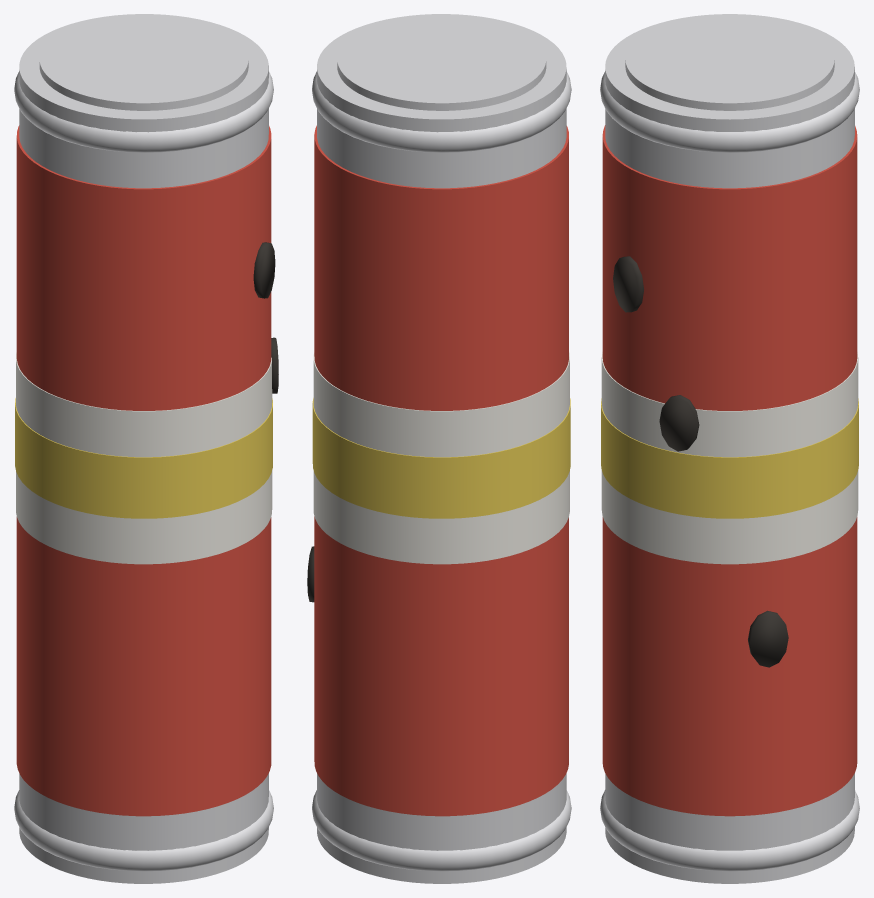
The model's file is soup_can_dmg.glb.
The picture shows the model from 3 angles, left to right: view 1: azimuth 30°, elevation 25°; view 2: azimuth 150°, elevation 25°; view 3: azimuth 270°, elevation 25°; orthographic projection.
Visible parts, largest first — view 1: Cylinder.014, Cylinder.013, Cylinder.015, Cylinder.017, Cylinder.016, Torus.003, Torus.002, Cylinder.020; view 2: Cylinder.014, Cylinder.013, Cylinder.015, Cylinder.017, Cylinder.016, Torus.003, Torus.002; view 3: Cylinder.014, Cylinder.013, Cylinder.015, Cylinder.017, Cylinder.016, Torus.002, Torus.003, Cylinder.019, Cylinder.018, Cylinder.020.
Part boxes in pixels (x1,y1,x2,y2): Cylinder.014: (16, 125, 271, 816); Cylinder.013: (19, 14, 268, 883); Cylinder.015: (16, 352, 272, 564); Cylinder.017: (39, 15, 248, 110); Cylinder.016: (15, 398, 272, 518); Torus.003: (14, 71, 273, 152); Torus.002: (14, 790, 273, 871); Cylinder.020: (253, 242, 275, 298); Cylinder.014: (314, 125, 568, 816); Cylinder.013: (317, 14, 566, 883); Cylinder.015: (313, 352, 569, 564); Cylinder.017: (337, 15, 546, 110); Cylinder.016: (312, 398, 570, 518); Torus.003: (312, 71, 571, 152); Torus.002: (312, 790, 571, 871); Cylinder.014: (602, 125, 857, 816); Cylinder.013: (605, 14, 854, 883); Cylinder.015: (601, 352, 858, 564); Cylinder.017: (625, 15, 834, 110); Cylinder.016: (601, 398, 858, 518); Torus.002: (600, 790, 859, 871); Torus.003: (600, 71, 859, 152); Cylinder.019: (748, 610, 788, 667); Cylinder.018: (659, 395, 699, 451); Cylinder.020: (613, 256, 643, 312).
Size of the model in its own units: 1.56 by 5.05 by 1.54.
